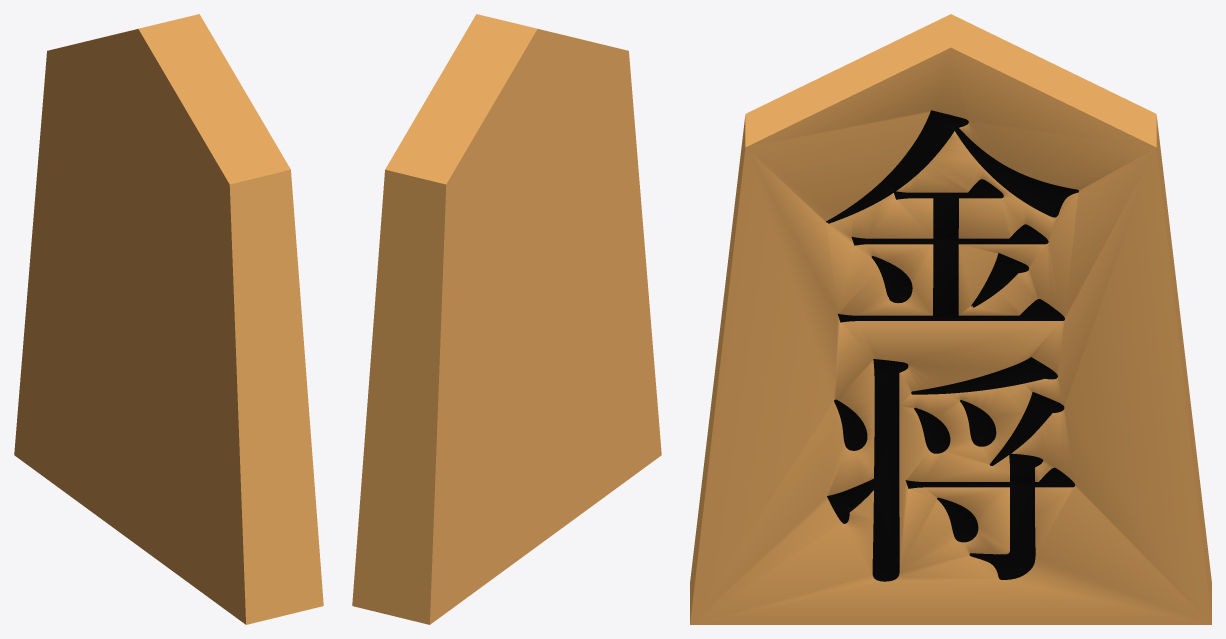
Rendered from JapaneseChessGold.fbx.
3 renders of one model, left to right at view 1: azimuth 30°, elevation 25°; view 2: azimuth 150°, elevation 25°; view 3: azimuth 270°, elevation 25°, orthographic. The views are drawn at different scales.
Visible parts, largest first — view 1: Cube; view 2: Cube; view 3: Cube.
Boxes of the visible parts, box(x1,y1,x2,y2) form: Cube: box(14, 14, 323, 624); Cube: box(352, 14, 661, 624); Cube: box(690, 14, 1211, 624).
Size of the model in its own units: 38.67 by 242 by 200.
2 materials, 2 textured.
